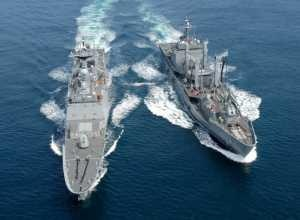warship: (163, 12, 261, 155), (61, 37, 106, 192)
